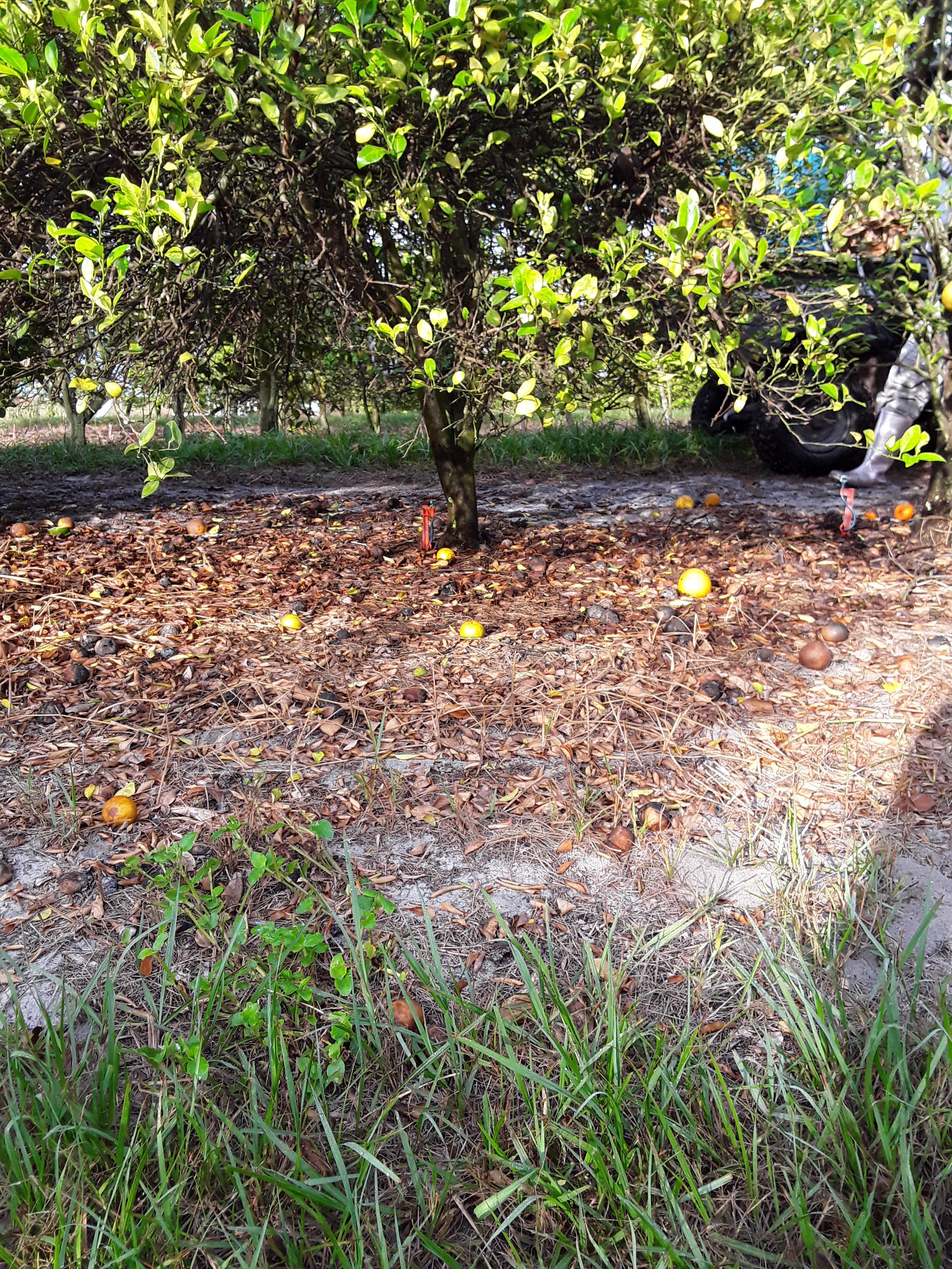fruit_on_ground: (706, 197, 750, 236)
fruit_on_tree: (385, 995, 429, 1031), (98, 794, 142, 829), (674, 566, 714, 601), (633, 801, 675, 832), (796, 640, 835, 671), (817, 618, 852, 646), (454, 616, 488, 642), (890, 502, 917, 526), (669, 492, 697, 515), (702, 488, 725, 513), (183, 515, 208, 538), (279, 614, 305, 635), (433, 544, 456, 566), (864, 507, 884, 527), (10, 519, 29, 540), (56, 516, 76, 533)
